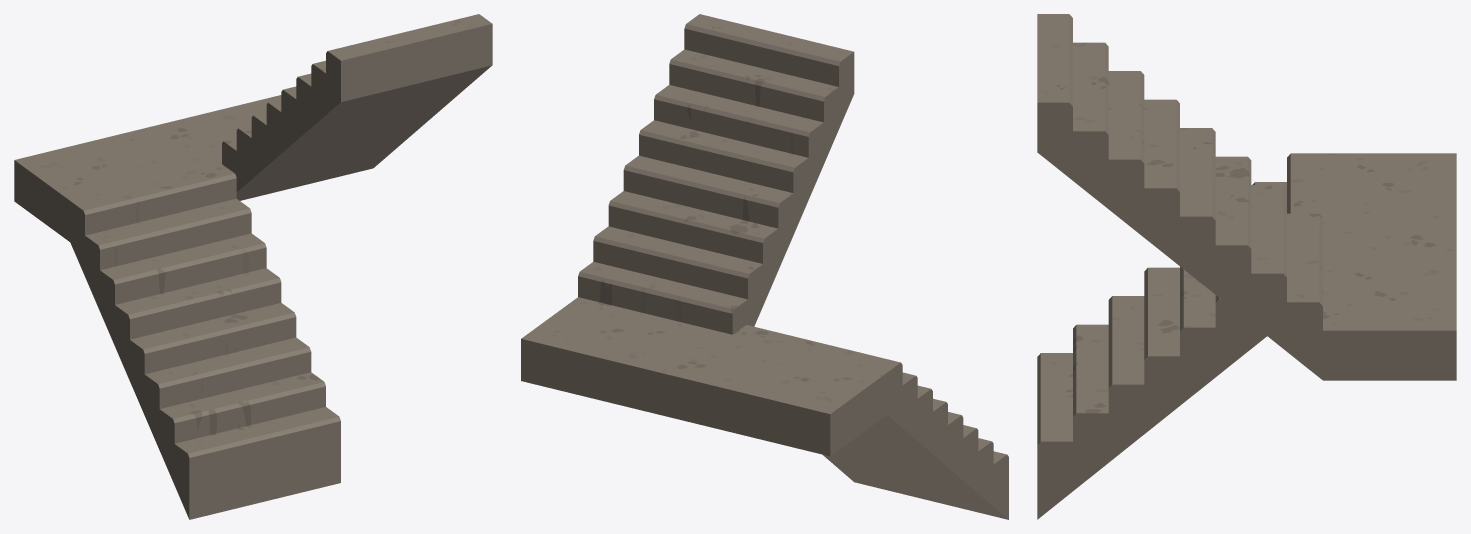
Rendered from SM_Bld_Base_Stairs_02.obj.
3 renders of one model, left to right at view 1: azimuth 30°, elevation 25°; view 2: azimuth 150°, elevation 25°; view 3: azimuth 270°, elevation 25°, orthographic. The views are drawn at different scales.
Visible parts, largest first — view 1: SM_Bld_Base_Stairs_02_0; view 2: SM_Bld_Base_Stairs_02_0; view 3: SM_Bld_Base_Stairs_02_0.
Part boxes in pixels (box(x1,y1,x2,y2)): SM_Bld_Base_Stairs_02_0: box(14, 14, 492, 519); SM_Bld_Base_Stairs_02_0: box(521, 14, 1008, 519); SM_Bld_Base_Stairs_02_0: box(1037, 14, 1456, 519).
Size of the model in its own units: 2.5 by 3.33 by 2.5.
Materials: 1 (1 with a texture image).
